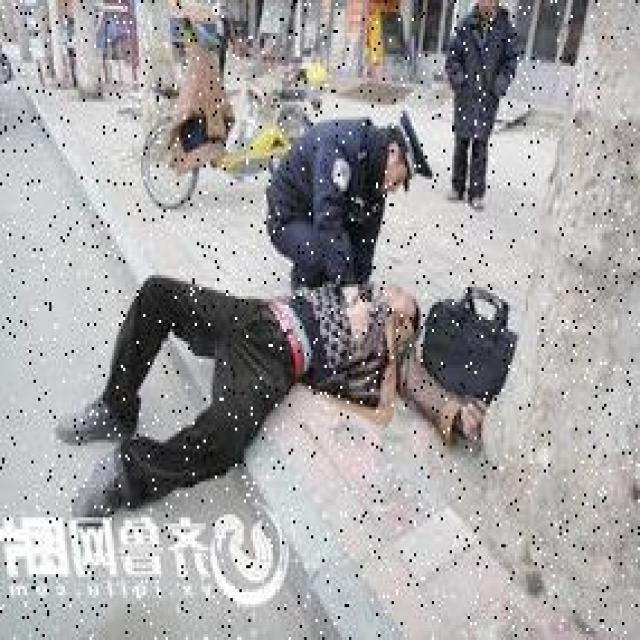fall: (60, 278, 428, 502)
